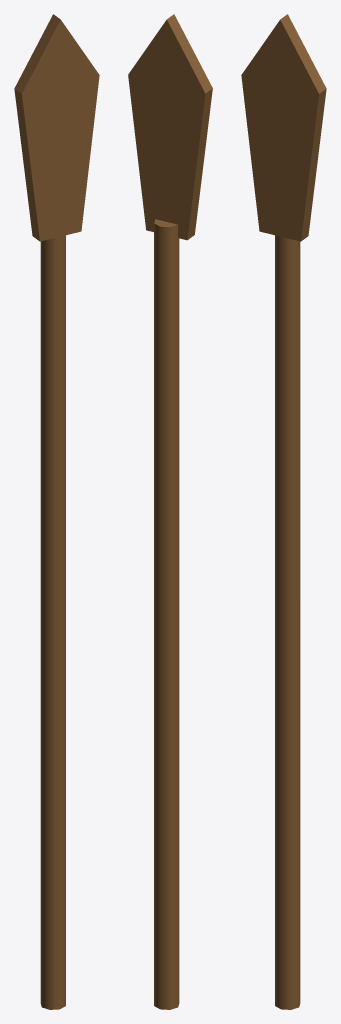
Rendered from maori-taiaha.glb.
The picture shows the model from 3 angles, left to right: view 1: azimuth 30°, elevation 25°; view 2: azimuth 150°, elevation 25°; view 3: azimuth 330°, elevation 25°; orthographic projection.
Visible parts, largest first — view 1: Shaft, Paddle; view 2: Shaft, Paddle; view 3: Shaft, Paddle.
Part boxes in pixels (x1,y1,x2,y2): Shaft: [40, 235, 65, 1009]; Paddle: [14, 14, 99, 241]; Shaft: [154, 219, 179, 1009]; Paddle: [128, 14, 212, 240]; Shaft: [275, 235, 300, 1009]; Paddle: [241, 14, 326, 241].
Bounding box in the file's own units: 0.15 × 1.83 × 0.047.
